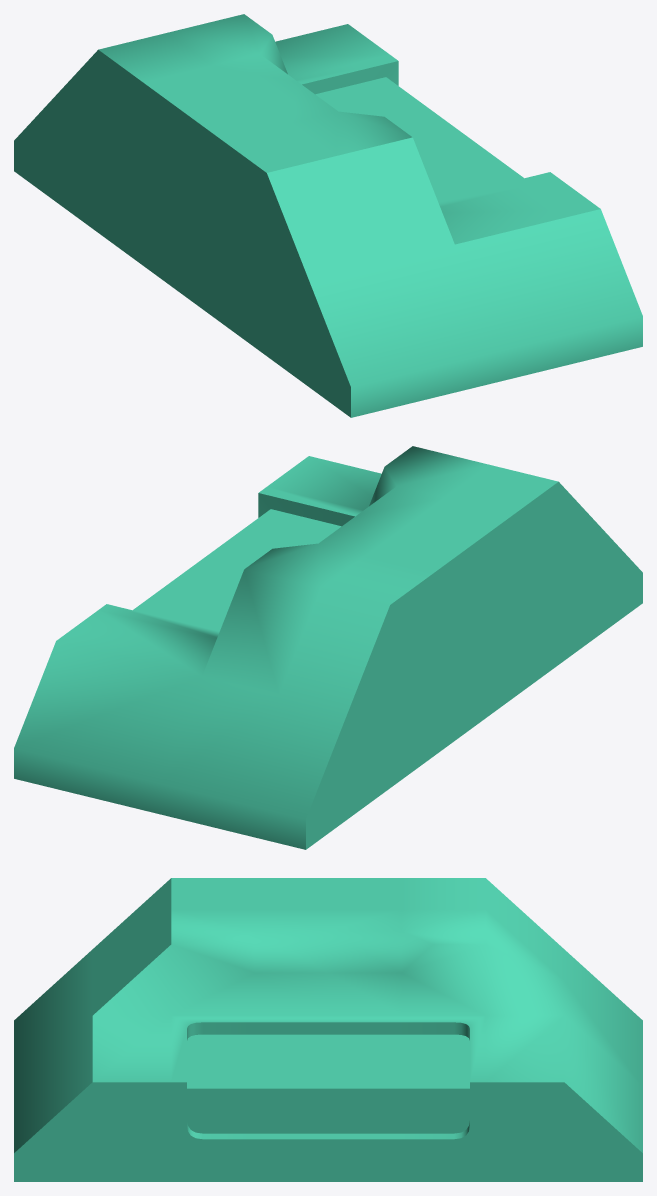
The model's file is Floor_1x2m_C_End.FBX.
The picture shows the model from 3 angles, top to bottom: view 1: azimuth 30°, elevation 25°; view 2: azimuth 150°, elevation 25°; view 3: azimuth 270°, elevation 25°; orthographic projection. The views are drawn at different scales.
Parts seen in each view (by area): view 1: Floor_1x2m_C_End; view 2: Floor_1x2m_C_End; view 3: Floor_1x2m_C_End.
Boxes of the visible parts, left/top/right/bottom form: Floor_1x2m_C_End: left=14, top=14, right=642, bottom=417; Floor_1x2m_C_End: left=14, top=446, right=642, bottom=849; Floor_1x2m_C_End: left=14, top=878, right=642, bottom=1181.
Bounding box in the file's own units: 100 × 60 × 200.
